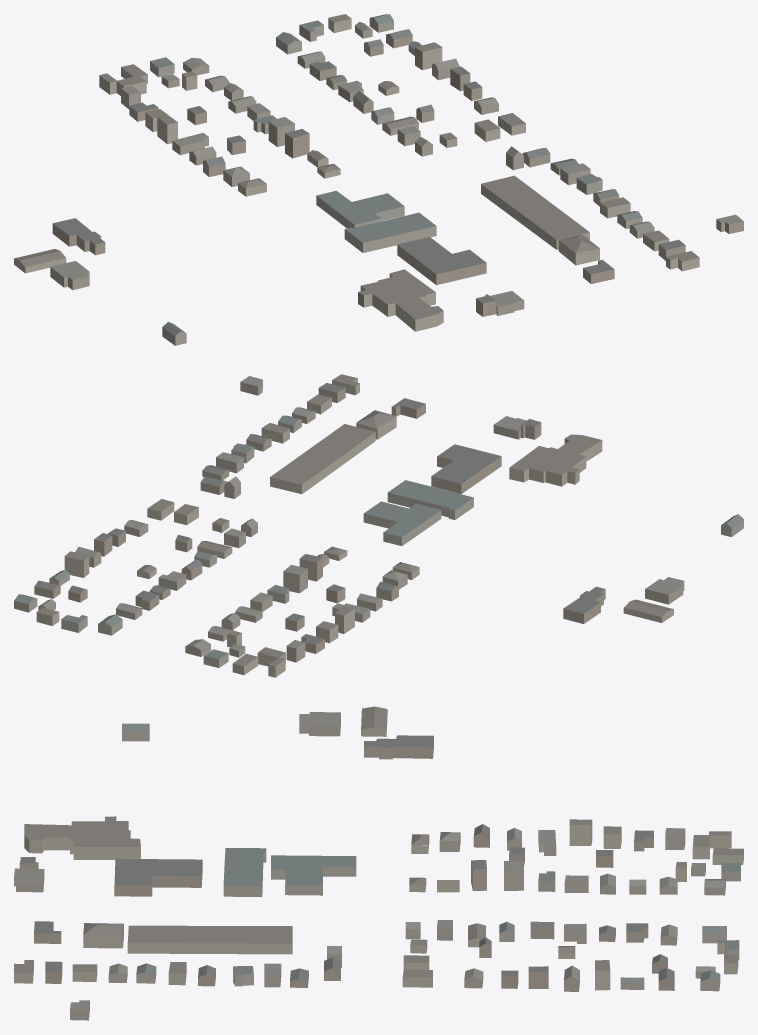
File: a8de54000f65-chunk-1200_11841.glb
3 views of the same model, one above another, from view 1: azimuth 30°, elevation 25°; view 2: azimuth 150°, elevation 25°; view 3: azimuth 270°, elevation 25° (orthographic). The views are drawn at different scales.
Parts seen in each view (by area): view 1: building_57251, building_162222, building_104178, building_129053, building_4655, building_87248, building_109638, building_126956, building_170668, building_50992, building_106974, building_15184 (+4 smaller); view 2: building_57251, building_162222, building_104178, building_4655, building_129053, building_87248, building_126956, building_170668, building_109638, building_50992, building_117377, building_15184 (+2 smaller); view 3: building_57251, building_162222, building_104178, building_4655, building_129053, building_87248, building_109638, building_126956, building_50992, building_170668, building_149780, building_37151 (+4 smaller).
Boxes of the visible parts, left/top/right/bottom form: building_57251: left=481, top=175, right=589, bottom=249; building_162222: left=358, top=269, right=443, bottom=331; building_104178: left=397, top=237, right=486, bottom=285; building_129053: left=344, top=212, right=436, bottom=252; building_4655: left=316, top=190, right=404, bottom=228; building_87248: left=52, top=218, right=105, bottom=255; building_109638: left=558, top=234, right=599, bottom=265; building_126956: left=50, top=261, right=89, bottom=290; building_170668: left=14, top=249, right=66, bottom=273; building_50992: left=99, top=73, right=146, bottom=95; building_106974: left=285, top=129, right=309, bottom=158; building_15184: left=415, top=42, right=442, bottom=70; building_57251: left=270, top=424, right=375, bottom=494; building_162222: left=509, top=434, right=602, bottom=486; building_104178: left=431, top=444, right=501, bottom=494; building_4655: left=363, top=501, right=441, bottom=545; building_129053: left=387, top=480, right=473, bottom=519; building_87248: left=563, top=586, right=605, bottom=623; building_126956: left=645, top=577, right=684, bottom=604; building_170668: left=623, top=599, right=673, bottom=622; building_109638: left=356, top=410, right=396, bottom=439; building_50992: left=257, top=647, right=285, bottom=677; building_117377: left=283, top=565, right=307, bottom=593; building_15184: left=64, top=551, right=89, bottom=577; building_57251: left=127, top=925, right=292, bottom=954; building_162222: left=24, top=816, right=140, bottom=859; building_104178: left=114, top=858, right=202, bottom=896; building_4655: left=271, top=855, right=356, bottom=895; building_129053: left=223, top=847, right=266, bottom=896; building_87248: left=364, top=735, right=433, bottom=759; building_109638: left=83, top=923, right=123, bottom=948; building_126956: left=299, top=712, right=340, bottom=736; building_50992: left=692, top=831, right=731, bottom=859; building_170668: left=361, top=706, right=387, bottom=736; building_149780: left=14, top=868, right=44, bottom=892; building_37151: left=569, top=819, right=592, bottom=845.
Size of the model in its own units: 343 by 11.32 by 347.
